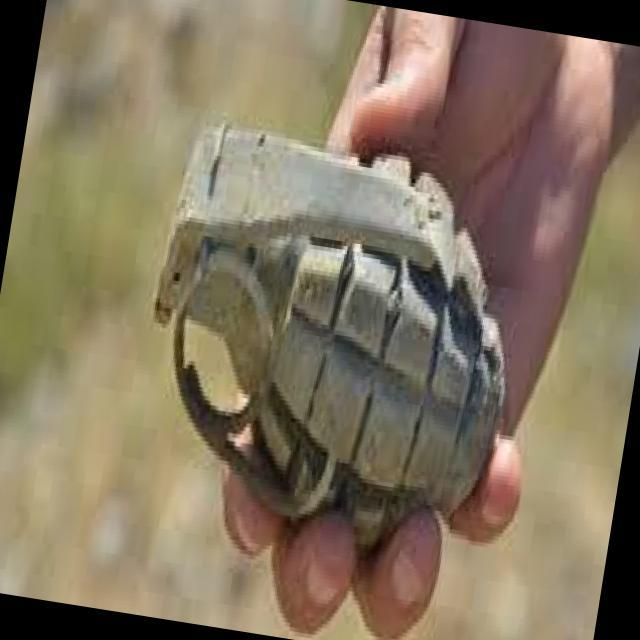grenade: (118, 107, 540, 560)
